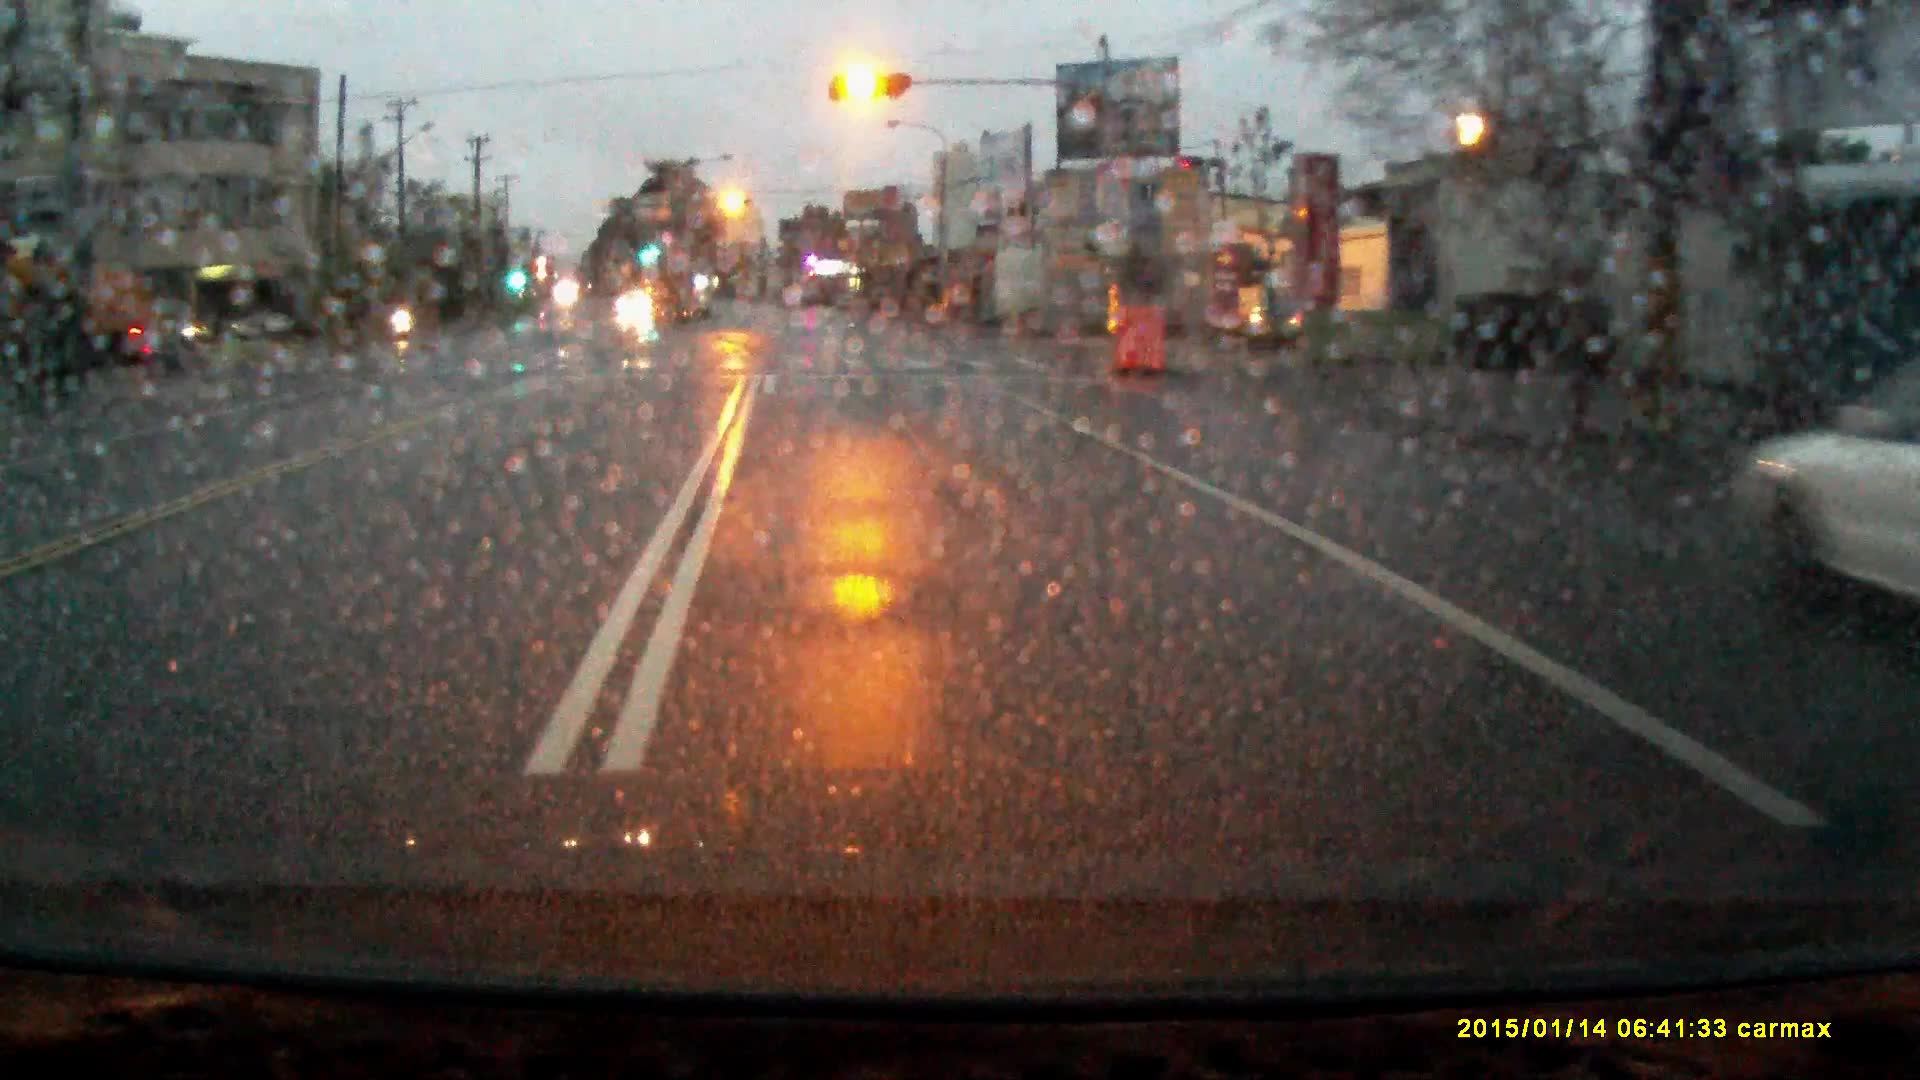rider: (387, 279, 415, 346)
vehicle: (1740, 356, 1920, 600), (1, 258, 155, 366), (617, 290, 653, 318)
